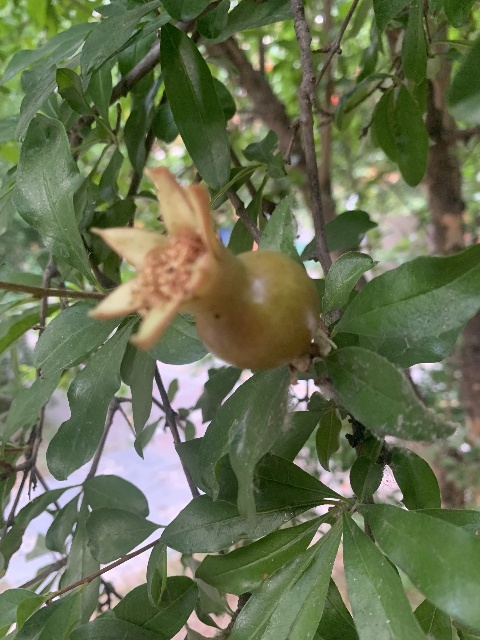early-fruit: (87, 165, 319, 370)
